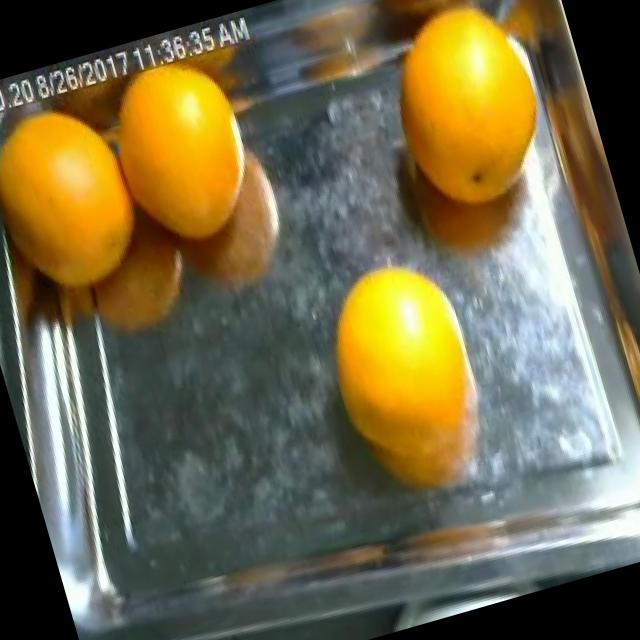Fruit: (290, 230, 503, 472)
